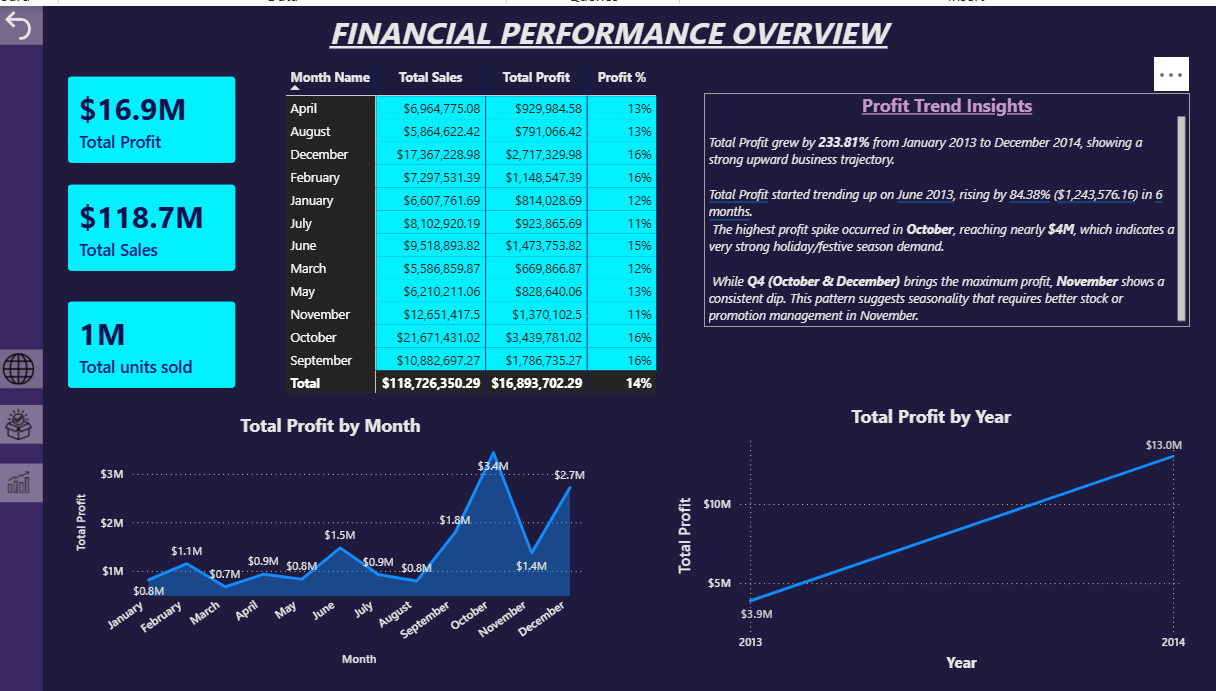

This screenshot's page, from the dashboard's own definition file:
{"tool":"powerbi","page":{"name":"Executive Dashboard","canvas":[1280,720],"ordinal":0},"visuals":[{"type":"textbox","title":"Header","box":[0,0,1280,57.1],"z":0},{"type":"actionButton","title":"Executive button","box":[0,480.4,45.7,41],"z":0,"group":"g1"},{"type":"actionButton","title":"Products button","box":[0,419,45.7,41],"z":1000,"group":"g1"},{"type":"cardVisual","title":"KPI_TotalProfit","fields":{"Data":["Table Measures.Total Profit"]},"box":[54.7,56.7,210.6,125.6],"z":2000},{"type":"actionButton","title":"Global performance button","box":[0,360.7,45.7,41],"z":2000,"group":"g1"},{"type":"shape","title":"SideBar","box":[0,0,46,720.5],"z":4000},{"type":"lineChart","fields":{"Category":["Copy of Financial Sample xlsx -.Date.Variation.Date Hierarchy.Year","Copy of Financial Sample xlsx -.Date.Variation.Date Hierarchy.Quarter","Copy of Financial Sample xlsx -.Date.Variation.Date Hierarchy.Month","Copy of Financial Sample xlsx -.Date.Variation.Date Hierarchy.Day"],"Y":["Table Measures.Total Profit"]},"box":[74.9,427.3,544.8,271.4],"z":6000},{"type":"lineChart","fields":{"Category":["Copy of Financial Sample xlsx -.Date.Variation.Date Hierarchy.Year","Copy of Financial Sample xlsx -.Date.Variation.Date Hierarchy.Quarter","Copy of Financial Sample xlsx -.Date.Variation.Date Hierarchy.Month","Copy of Financial Sample xlsx -.Date.Variation.Date Hierarchy.Day"],"Y":["Table Measures.Total Profit"]},"box":[706.9,417.7,543.4,286.6],"z":7000},{"type":"cardVisual","title":"KPI_TotalProfit","fields":{"Data":["Table Measures.Total Sales"]},"box":[54.7,170.1,210.6,125.6],"z":8000},{"type":"cardVisual","title":"KPI_TotalProfit","fields":{"Data":["Table Measures.Total units sold"]},"box":[54.7,293.7,210.6,125.6],"z":9000},{"type":"textbox","title":"Profit Trend Insights","box":[740.3,91.4,510.3,245.7],"z":10000},{"type":"pivotTable","fields":{"Rows":["Copy of Financial Sample xlsx -. Month Name "],"Values":["Table Measures.Total Sales","Table Measures.Total Profit","Table Measures.Profit %"]},"box":[295.7,57.1,401.4,360],"z":11000},{"type":"group","id":"g1","title":"Navigator Buttons","box":[0,360.7,45.7,160.7],"z":11001},{"type":"actionButton","box":[0,0,46,40.6],"z":11002}]}

Visuals, with their boxes on the page's 1280x720 design canvas (x1, y1, x2, y2). These are canvas units, not pixel positions in the 1216x691 screenshot, which may show the page scaled, cropped or inside an application window:
"Header" textbox: Rect(0, 0, 1280, 57)
"Executive button" actionButton: Rect(0, 480, 46, 521)
"Products button" actionButton: Rect(0, 419, 46, 460)
"KPI_TotalProfit" cardVisual: Rect(55, 57, 265, 182)
"Global performance button" actionButton: Rect(0, 361, 46, 402)
"SideBar" shape: Rect(0, 0, 46, 720)
lineChart - Copy of Financial Sample xlsx -.Date.Variation.Date Hierarchy.Year x Copy of Financial Sample xlsx -.Date.Variation.Date Hierarchy.Quarter: Rect(75, 427, 620, 699)
lineChart - Copy of Financial Sample xlsx -.Date.Variation.Date Hierarchy.Year x Copy of Financial Sample xlsx -.Date.Variation.Date Hierarchy.Quarter: Rect(707, 418, 1250, 704)
"KPI_TotalProfit" cardVisual: Rect(55, 170, 265, 296)
"KPI_TotalProfit" cardVisual: Rect(55, 294, 265, 419)
"Profit Trend Insights" textbox: Rect(740, 91, 1251, 337)
pivotTable - Copy of Financial Sample xlsx -. Month Name  x Table Measures.Total Sales: Rect(296, 57, 697, 417)
"Navigator Buttons" group: Rect(0, 361, 46, 521)
actionButton: Rect(0, 0, 46, 41)
